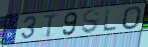3: (19, 14, 38, 42)
9: (62, 11, 79, 37)
L: (101, 8, 118, 32)
O: (121, 5, 143, 31)
S: (81, 9, 101, 35)
T: (43, 13, 59, 39)
